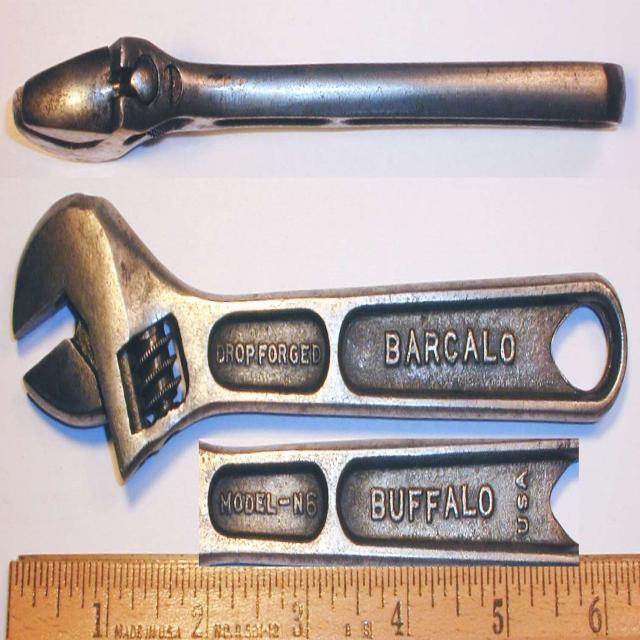wrench: (8, 184, 630, 461), (10, 22, 633, 176)
